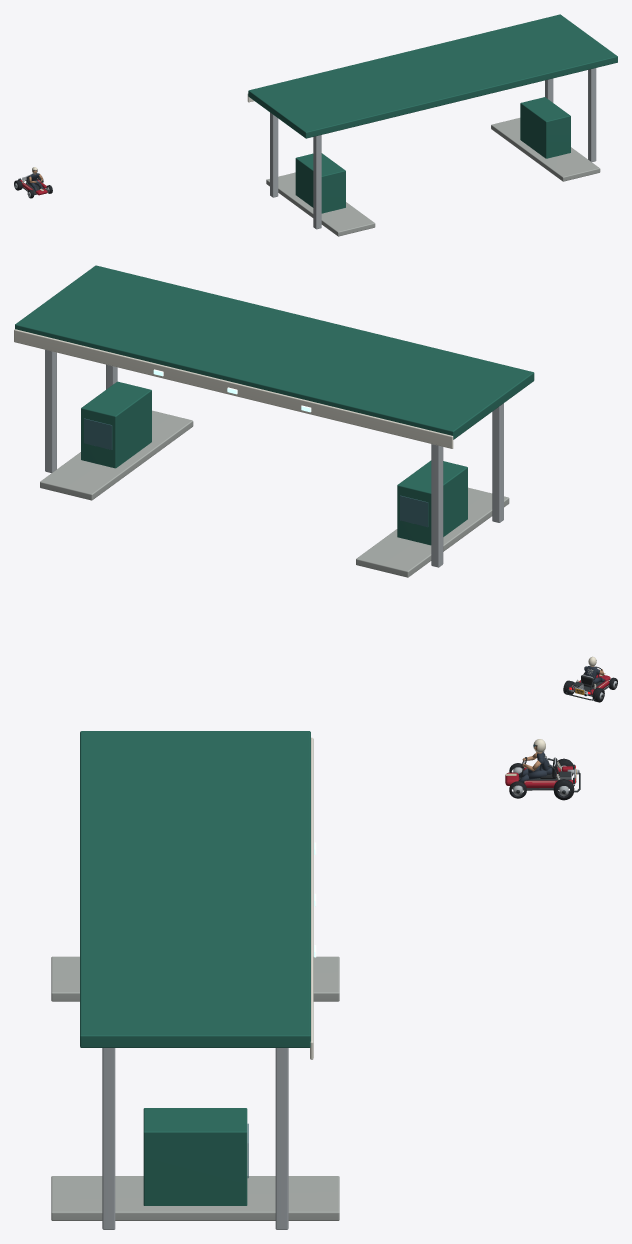
Rendered from sea-link-kart.glb.
The picture shows the model from 3 angles, top to bottom: view 1: azimuth 30°, elevation 25°; view 2: azimuth 150°, elevation 25°; view 3: azimuth 270°, elevation 25°; orthographic projection. The views are drawn at different scales.
Parts seen in each view (by area): view 1: Plaza Toll canopy green, Plaza Toll concrete, Plaza Brushed alloy; view 2: Plaza Toll canopy green, Plaza Toll concrete, Plaza Jersey lettering, Plaza Brushed alloy, Plaza Toll booth glass; view 3: Plaza Toll canopy green, Plaza Toll concrete, Plaza Brushed alloy, Plaza Jersey lettering.
Boxes of the visible parts, box(x1,y1,x2,y2) form: Plaza Toll canopy green: box(248, 14, 617, 213); Plaza Toll concrete: box(266, 118, 600, 236); Plaza Brushed alloy: box(270, 68, 596, 229); Plaza Toll canopy green: box(15, 265, 534, 545); Plaza Toll concrete: box(40, 410, 509, 577); Plaza Jersey lettering: box(14, 329, 453, 448); Plaza Brushed alloy: box(45, 350, 503, 567); Plaza Toll booth glass: box(84, 418, 428, 527); Plaza Toll canopy green: box(80, 731, 310, 1205); Plaza Toll concrete: box(51, 956, 339, 1220); Plaza Brushed alloy: box(102, 1048, 288, 1229); Plaza Jersey lettering: box(310, 737, 313, 1059).
Size of the model in its own units: 38.55 by 8.05 by 18.35.
